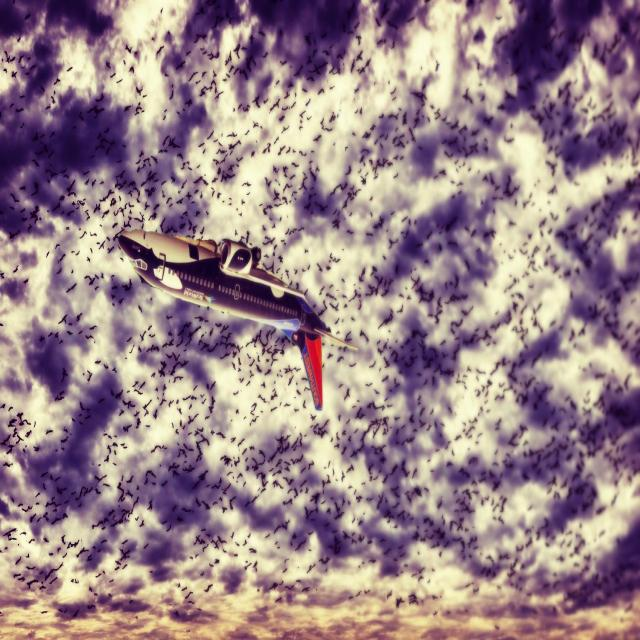airplane: (118, 227, 358, 411)
